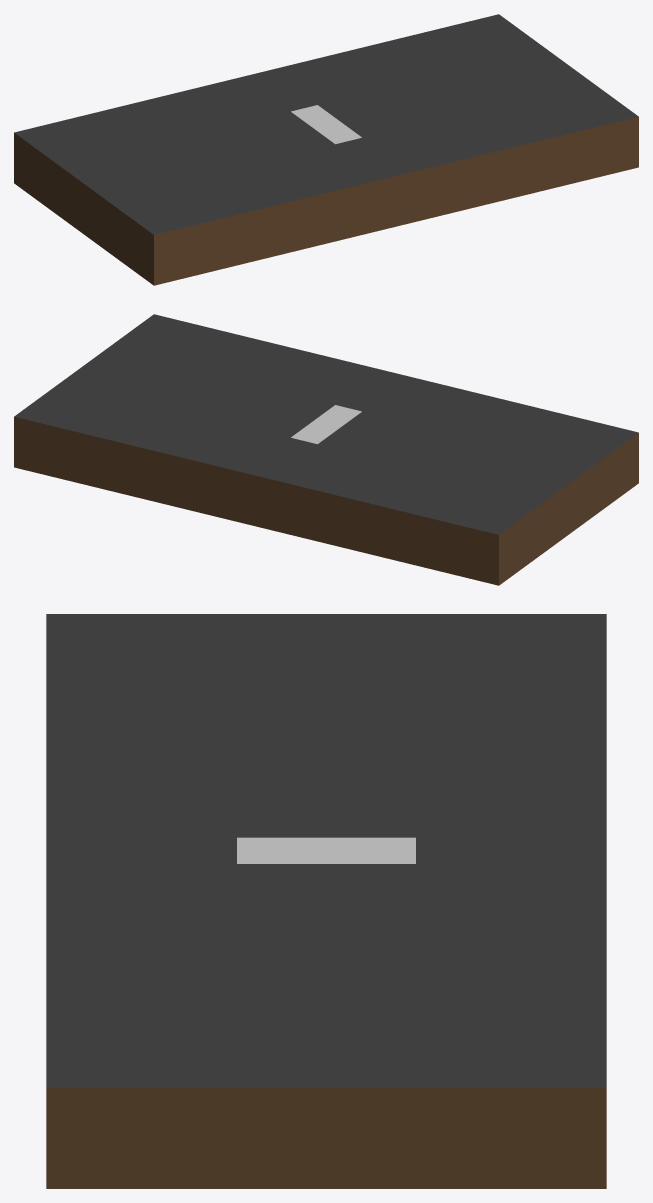
The model's file is road_2_car.fbx.
3 views of the same model, one above another, from view 1: azimuth 30°, elevation 25°; view 2: azimuth 150°, elevation 25°; view 3: azimuth 270°, elevation 25° (orthographic). The views are drawn at different scales.
Parts seen in each view (by area): view 1: Cube.006; view 2: Cube.006; view 3: Cube.006.
Boxes of the visible parts, bbox=[...] form: Cube.006: bbox=[14, 14, 638, 285]; Cube.006: bbox=[14, 314, 638, 585]; Cube.006: bbox=[46, 614, 606, 1188].
Size of the model in its own units: 2000 by 200 by 1000.
